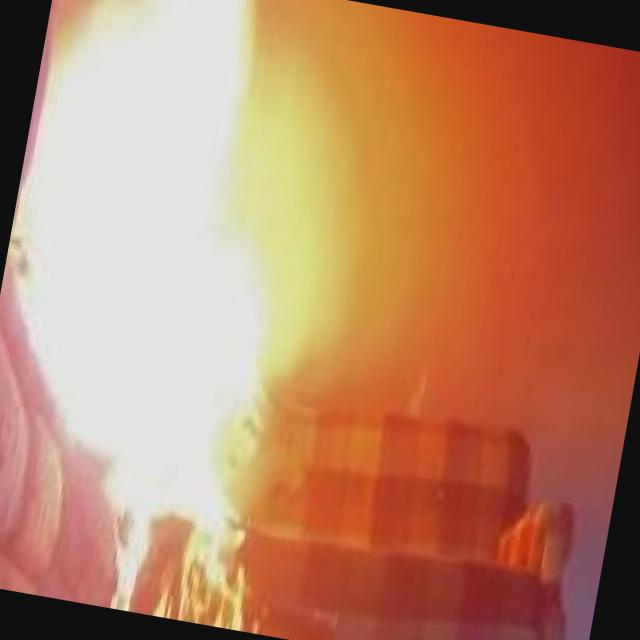fire: (0, 0, 398, 613)
